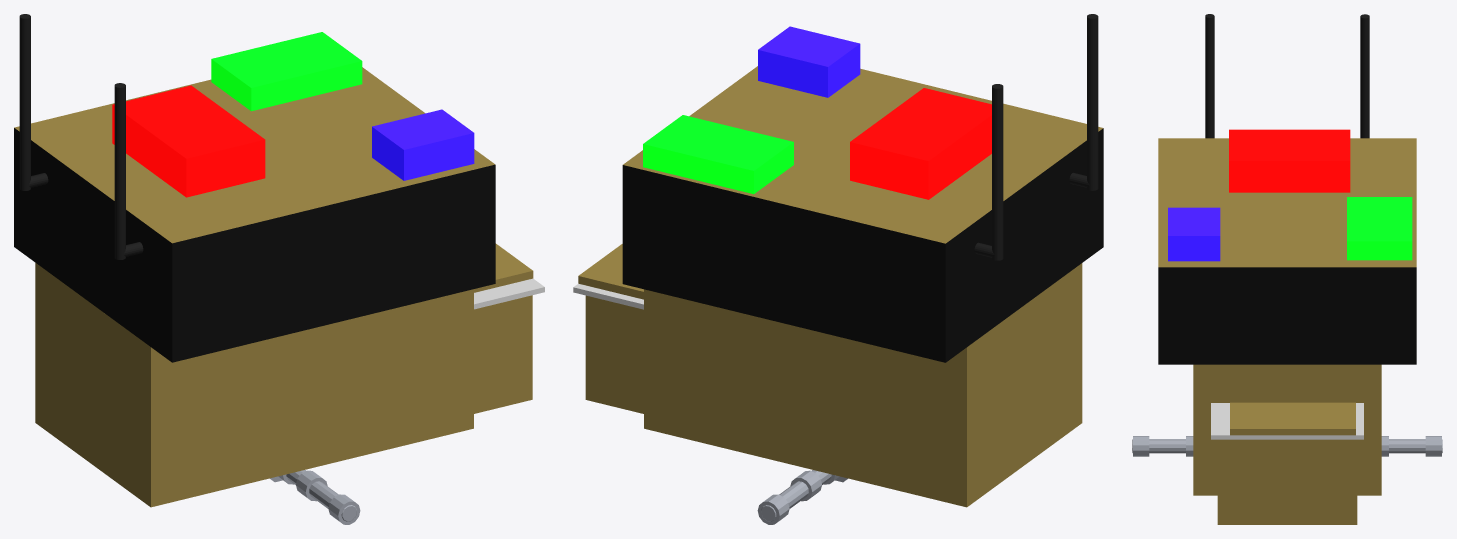
The picture shows the model from 3 angles, left to right: view 1: azimuth 30°, elevation 25°; view 2: azimuth 150°, elevation 25°; view 3: azimuth 270°, elevation 25°; orthographic projection. The views are drawn at different scales.
Parts seen in each view (by area): view 1: _titanium_bar_003; view 2: _titanium_bar_003; view 3: _titanium_bar_003.
Boxes of the visible parts, x1,y1,x2,y2 form: _titanium_bar_003: (14, 14, 544, 524); _titanium_bar_003: (573, 14, 1103, 524); _titanium_bar_003: (1132, 14, 1442, 524).
Size of the model in its own units: 0.3487 by 0.2667 by 0.3503.
